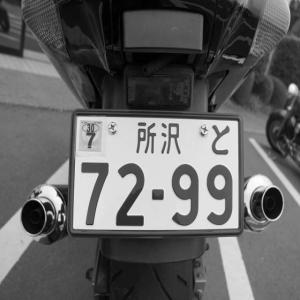Plate: (68, 109, 244, 238)
